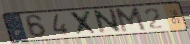2: (145, 7, 166, 30)
4: (53, 13, 71, 37)
6: (25, 13, 48, 39)
M: (113, 6, 148, 34)
N: (94, 7, 123, 35)
X: (68, 10, 100, 37)
